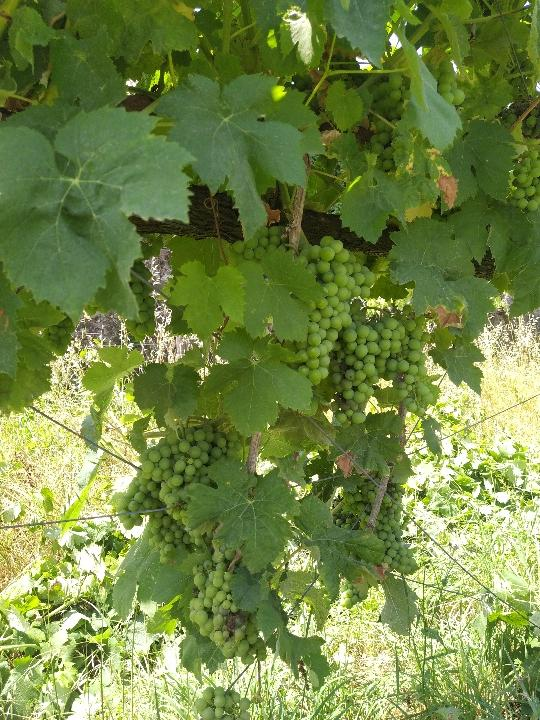grape: (284, 234, 377, 388), (140, 424, 243, 549)
